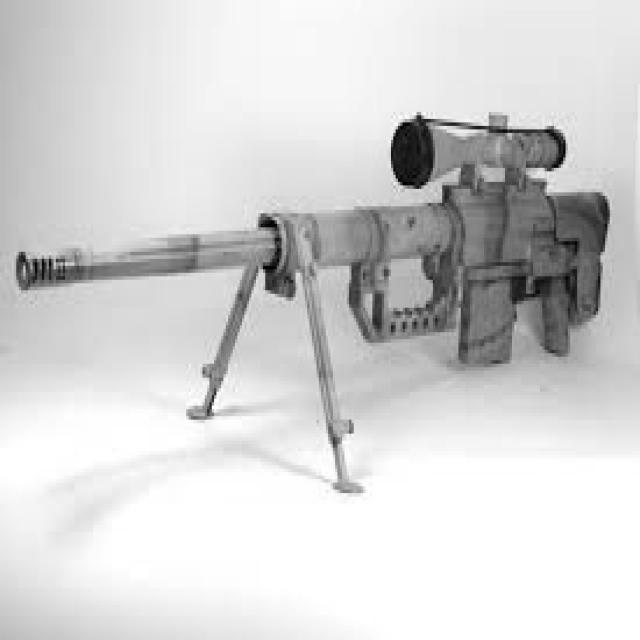gun: (14, 109, 610, 493)
